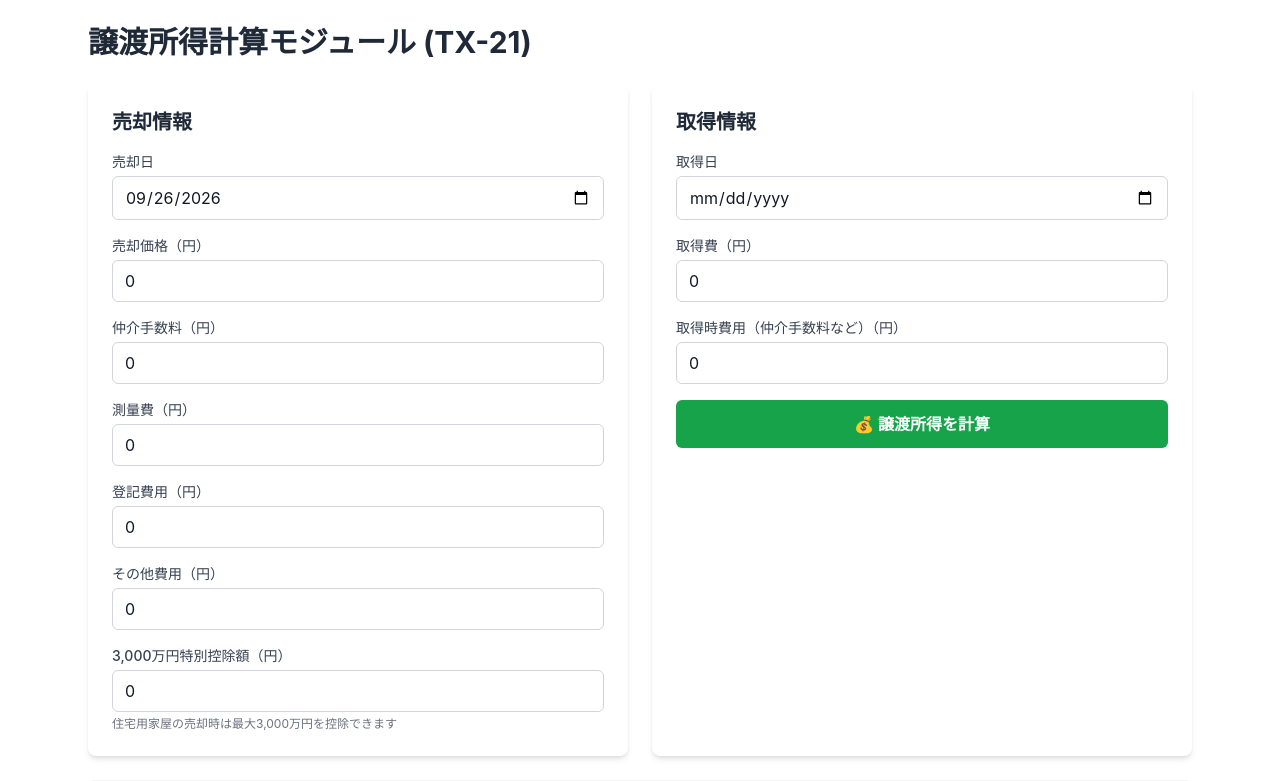
TX-56: 譲渡所得モジュール - 複数物件対応検証 › 長期・短期判定 › 5年以上の所有で長期譲渡所得と判定される
The width and height of the screenshot is (1280, 781).
Click the button "💰 譲渡所得を計算".
click(922, 424)  # box [676, 400, 1168, 448]
(page scrolled)
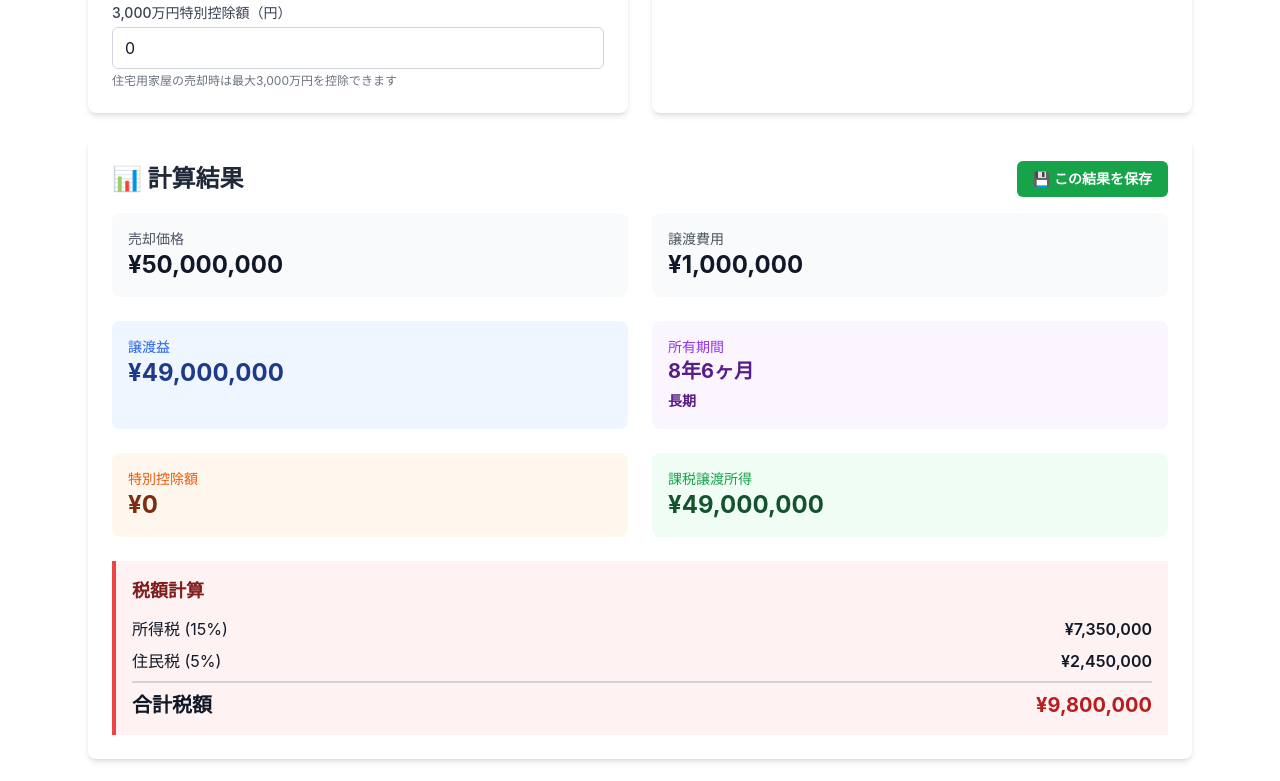
Now the text "長期" is shown, box [668, 392, 696, 409]
